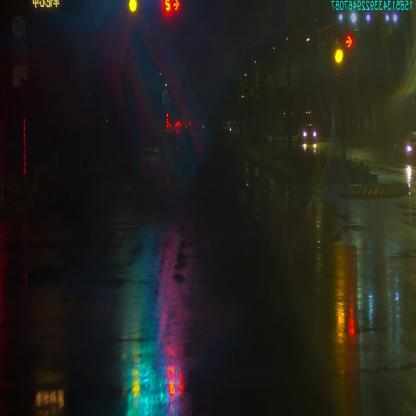traffic-light: (163, 0, 182, 10), (126, 0, 138, 14)
